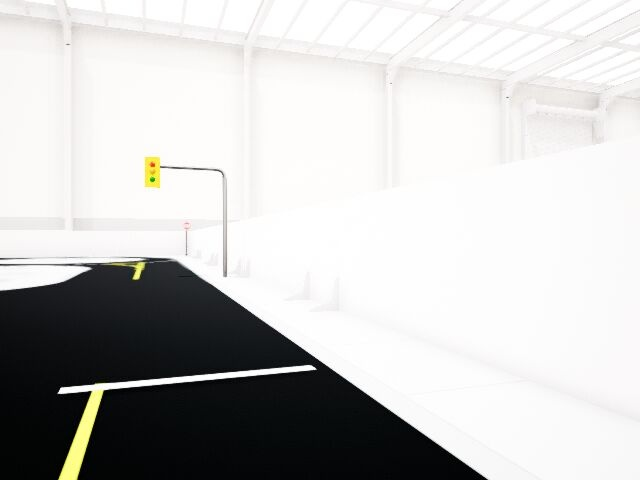red: (144, 157, 160, 188)
